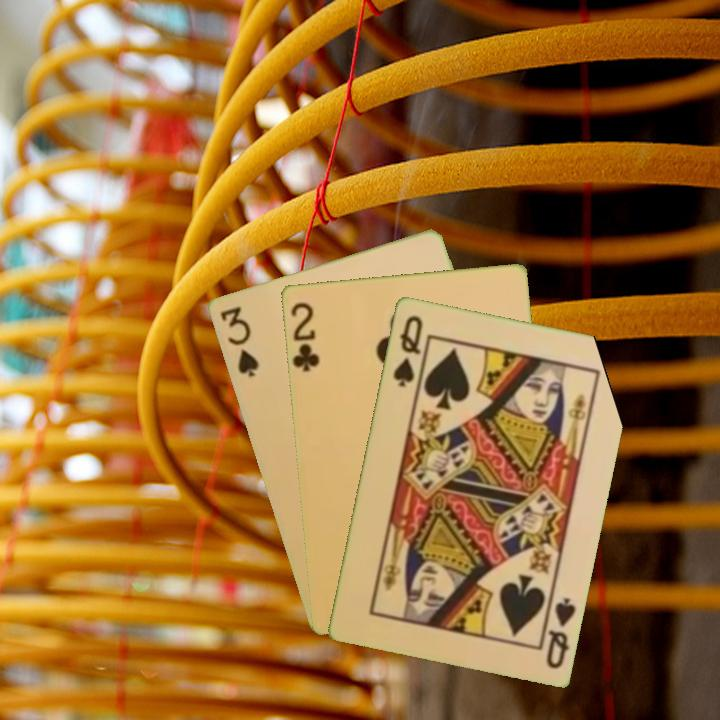2c: (286, 298, 322, 375)
3s: (216, 302, 261, 380)
Qs: (389, 311, 426, 390), (542, 593, 578, 671)
